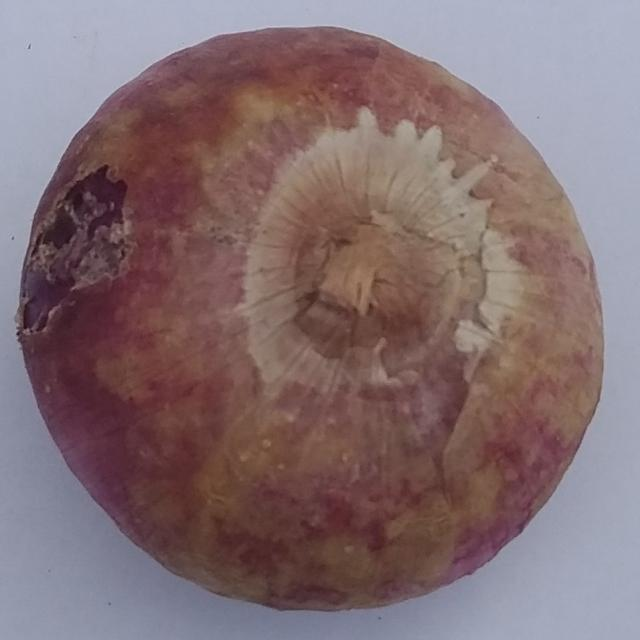onion: (16, 25, 606, 614)
